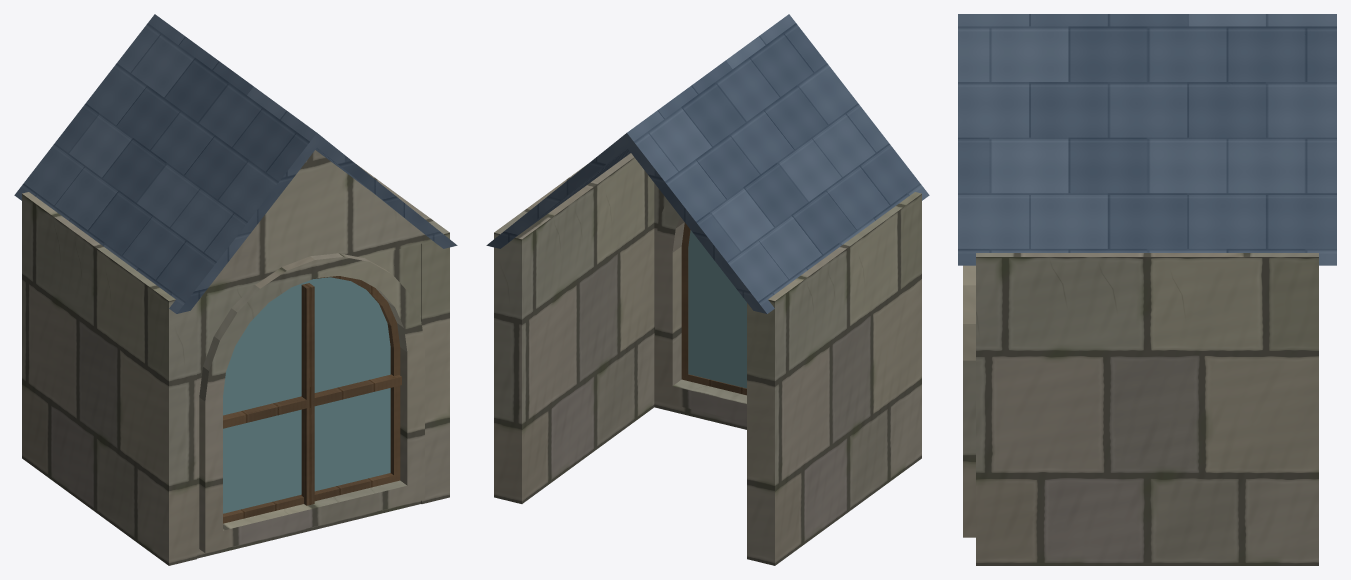
The model's file is Furn_Dormer.fbx.
The picture shows the model from 3 angles, left to right: view 1: azimuth 30°, elevation 25°; view 2: azimuth 150°, elevation 25°; view 3: azimuth 270°, elevation 25°; orthographic projection. The views are drawn at different scales.
Visible parts, largest first — view 1: Furn_Dormer_Mesh; view 2: Furn_Dormer_Mesh; view 3: Furn_Dormer_Mesh.
Boxes of the visible parts, x1,y1,x2,y2 form: Furn_Dormer_Mesh: [14, 14, 457, 565]; Furn_Dormer_Mesh: [486, 14, 929, 565]; Furn_Dormer_Mesh: [958, 14, 1336, 565].
Size of the model in its own units: 1.6 by 2.2 by 1.6.
